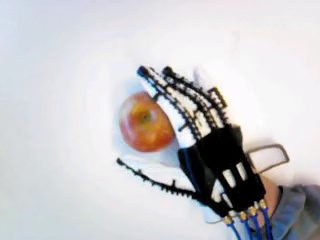apple: (117, 90, 175, 151)
hand: (113, 64, 264, 224)
